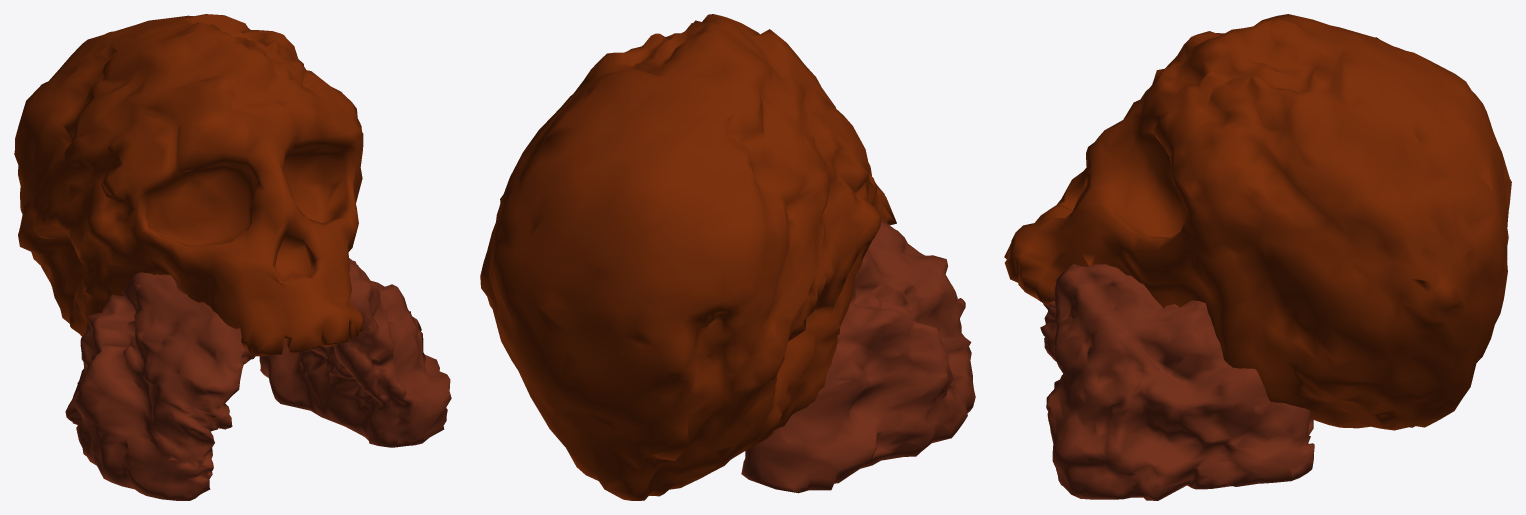
The model's file is skull3-lowpoly.fbx.
The picture shows the model from 3 angles, left to right: view 1: azimuth 30°, elevation 25°; view 2: azimuth 150°, elevation 25°; view 3: azimuth 270°, elevation 25°; orthographic projection. The views are drawn at different scales.
Visible parts, largest first — view 1: Cube; view 2: Cube; view 3: Cube.
Boxes of the visible parts, <box> form: Cube: <box>14,14,451,500</box>; Cube: <box>480,14,975,500</box>; Cube: <box>1004,14,1511,500</box>.
Size of the model in its own units: 484 by 527 by 594.
